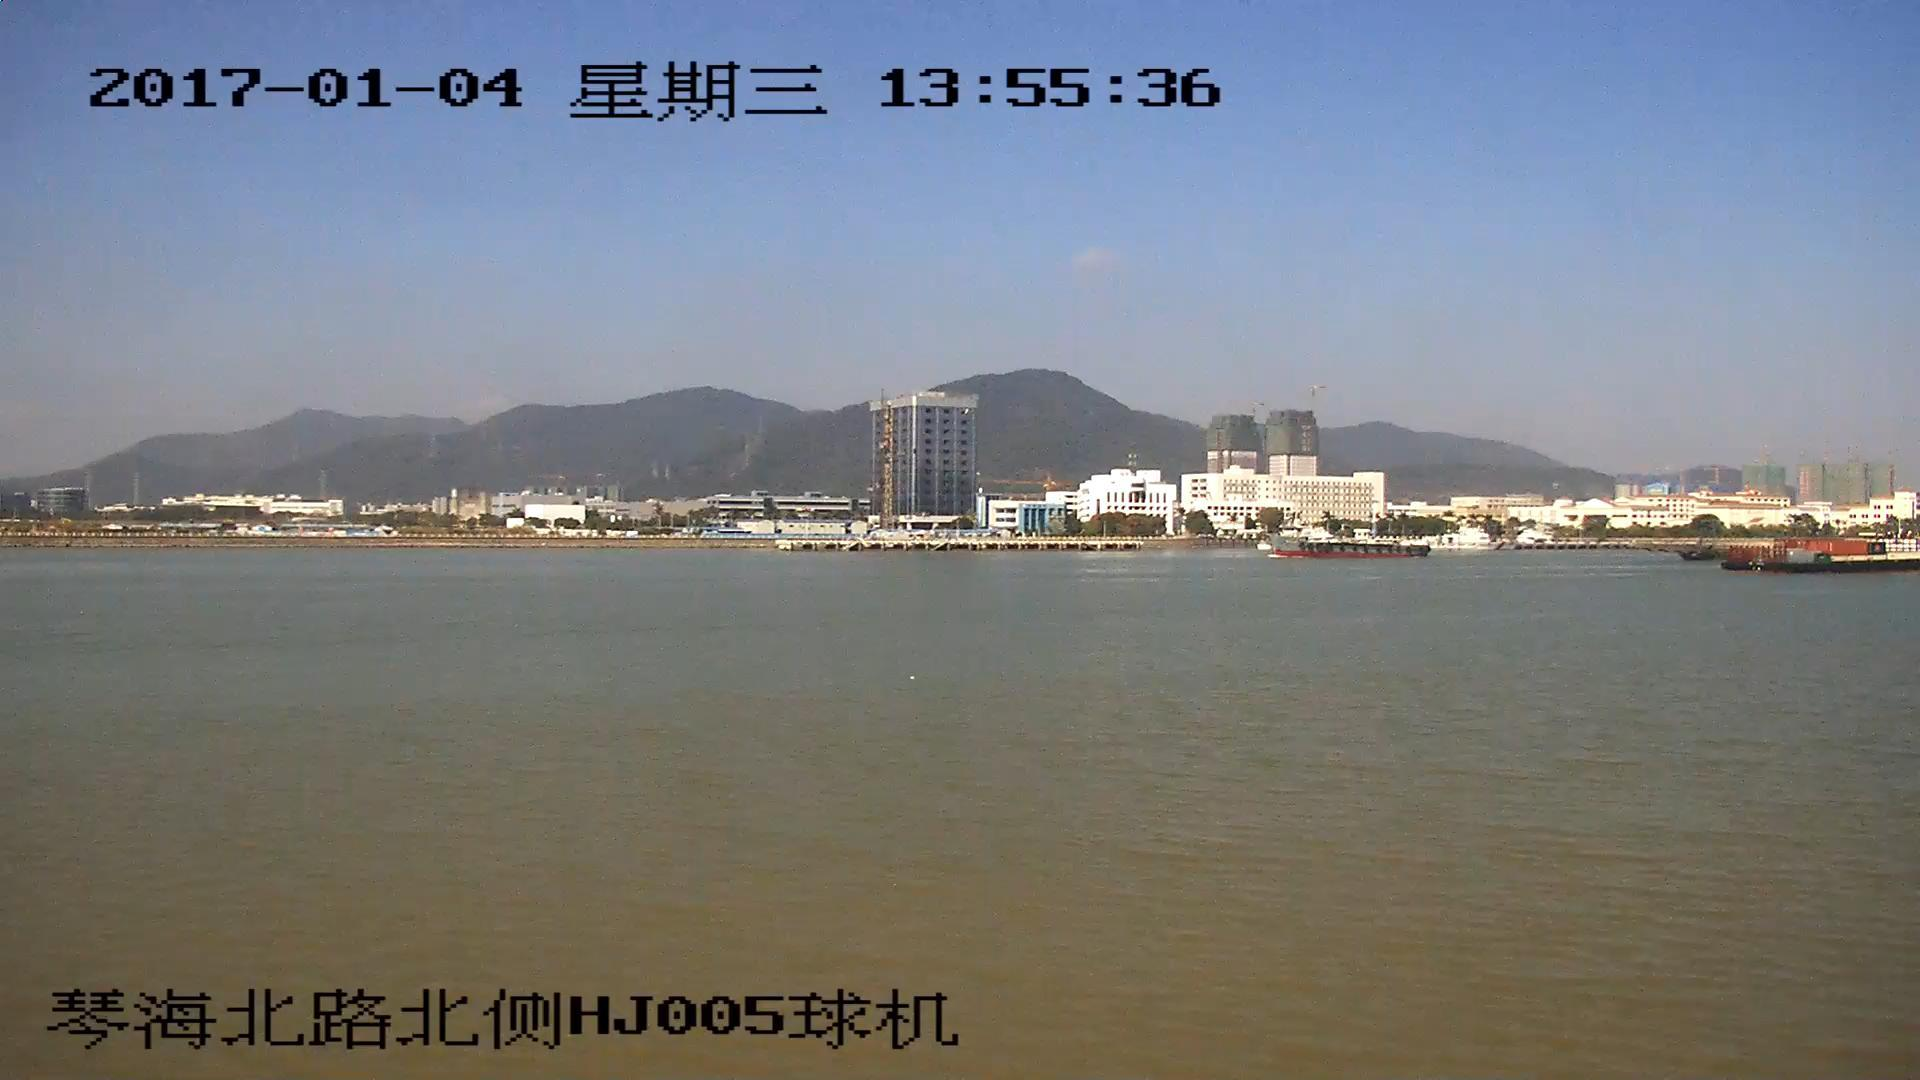Ship: (1734, 541, 1920, 576), (1273, 531, 1427, 559)
